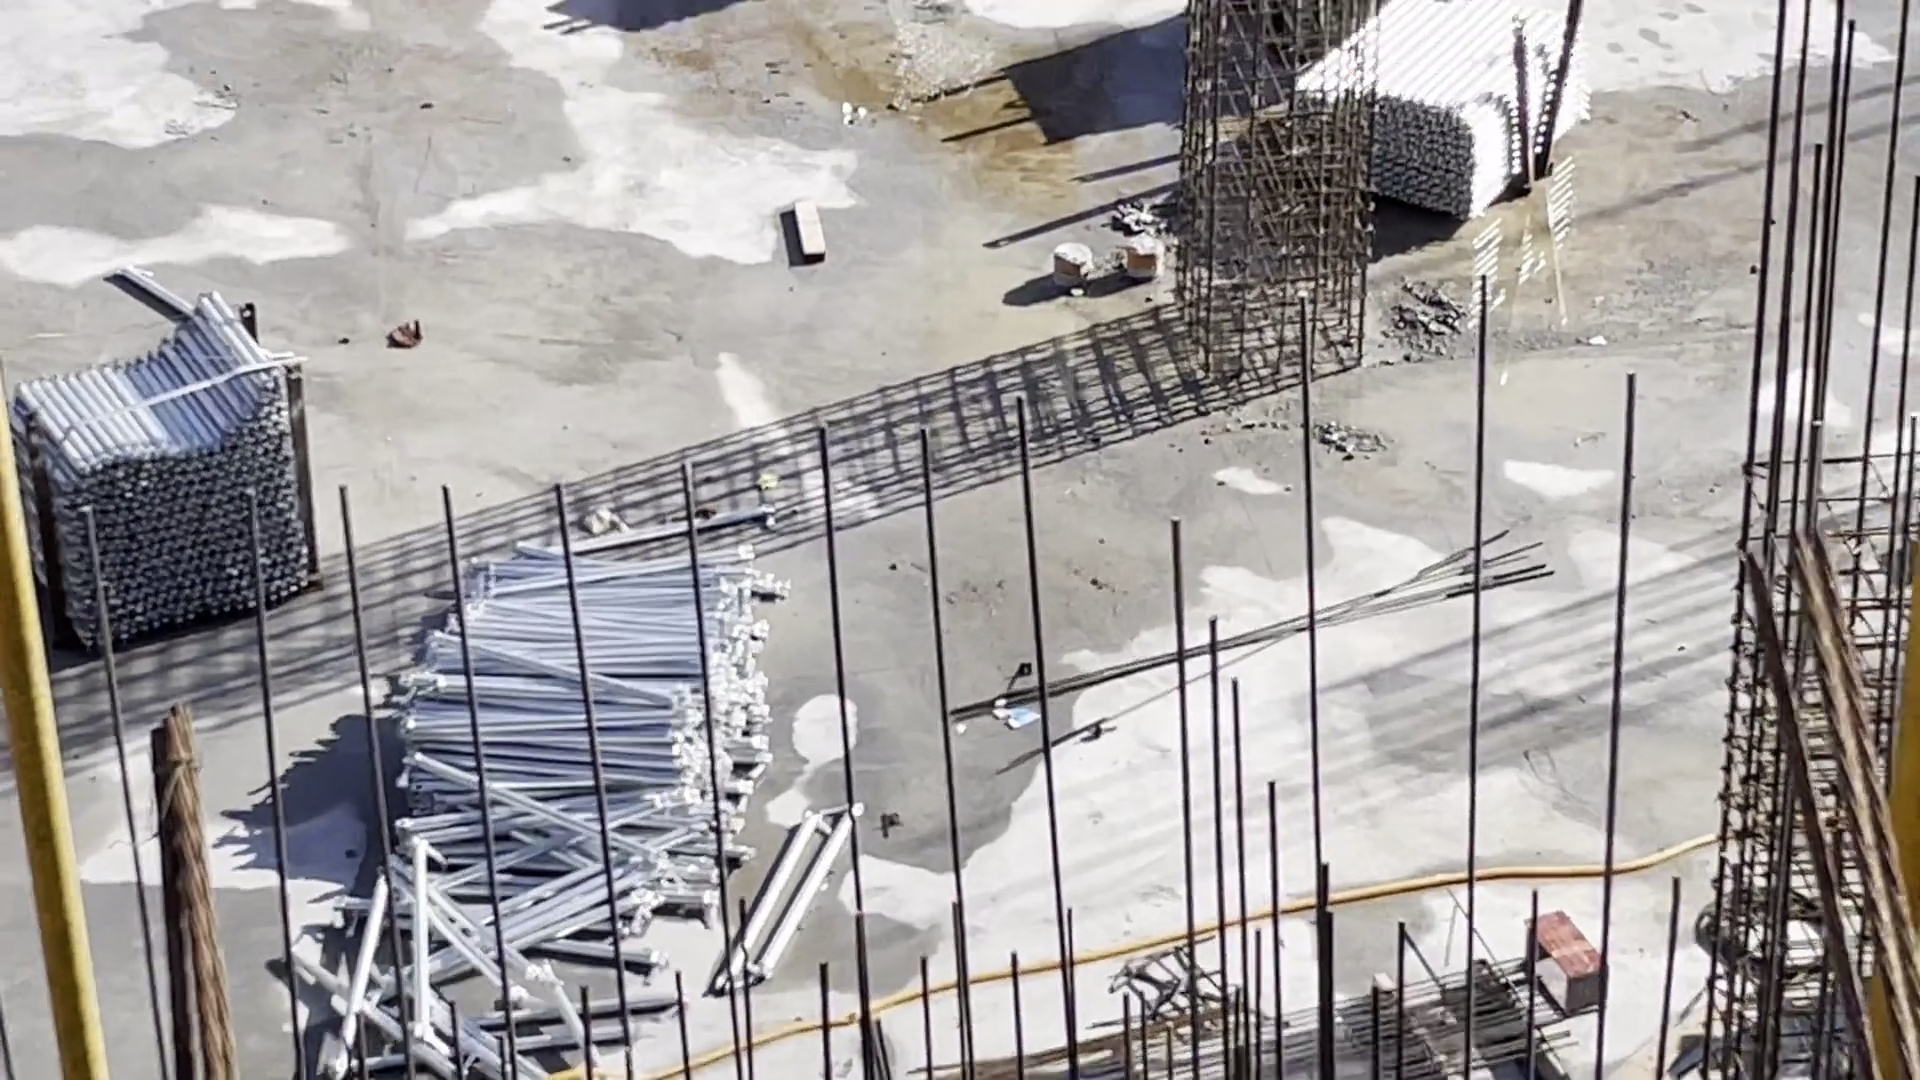scaffold: (376, 531, 779, 1080), (13, 290, 315, 659), (1284, 1, 1594, 219)
